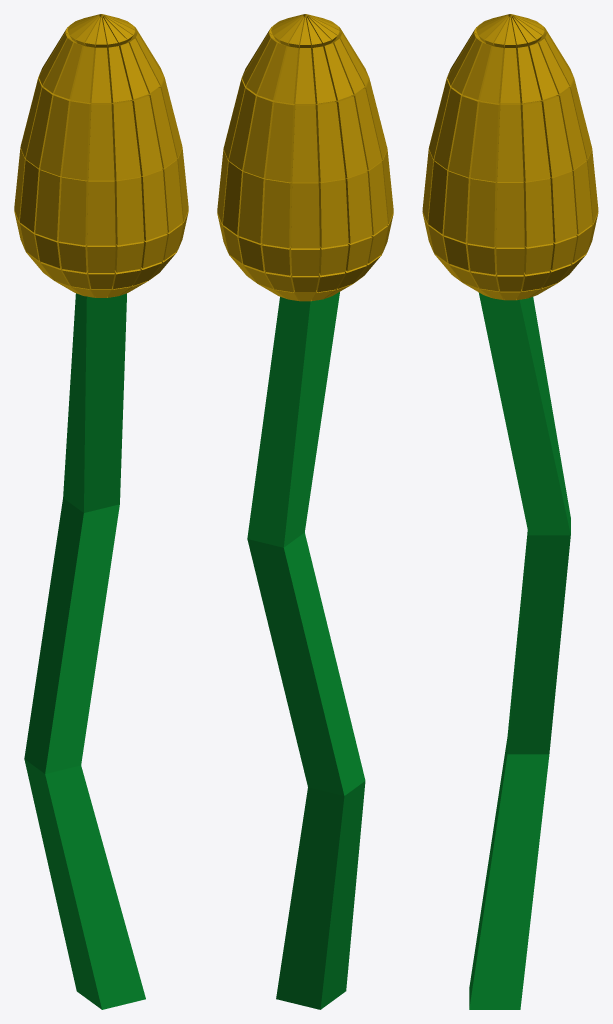
Rendered from corn.fbx.
3 views of the same model, side by side, from view 1: azimuth 30°, elevation 25°; view 2: azimuth 150°, elevation 25°; view 3: azimuth 270°, elevation 25° (orthographic).
Parts seen in each view (by area): view 1: Cube, Sphere; view 2: Cube, Sphere; view 3: Sphere, Cube.
Part boxes in pixels (left/top/right/bottom): Cube: left=24, top=293, right=145, bottom=1009; Sphere: left=14, top=14, right=188, bottom=297; Cube: left=247, top=292, right=365, bottom=1009; Sphere: left=217, top=14, right=393, bottom=301; Sphere: left=422, top=14, right=598, bottom=300; Cube: left=469, top=292, right=570, bottom=1009.
Size of the model in its own units: 64.75 by 404 by 65.61.
